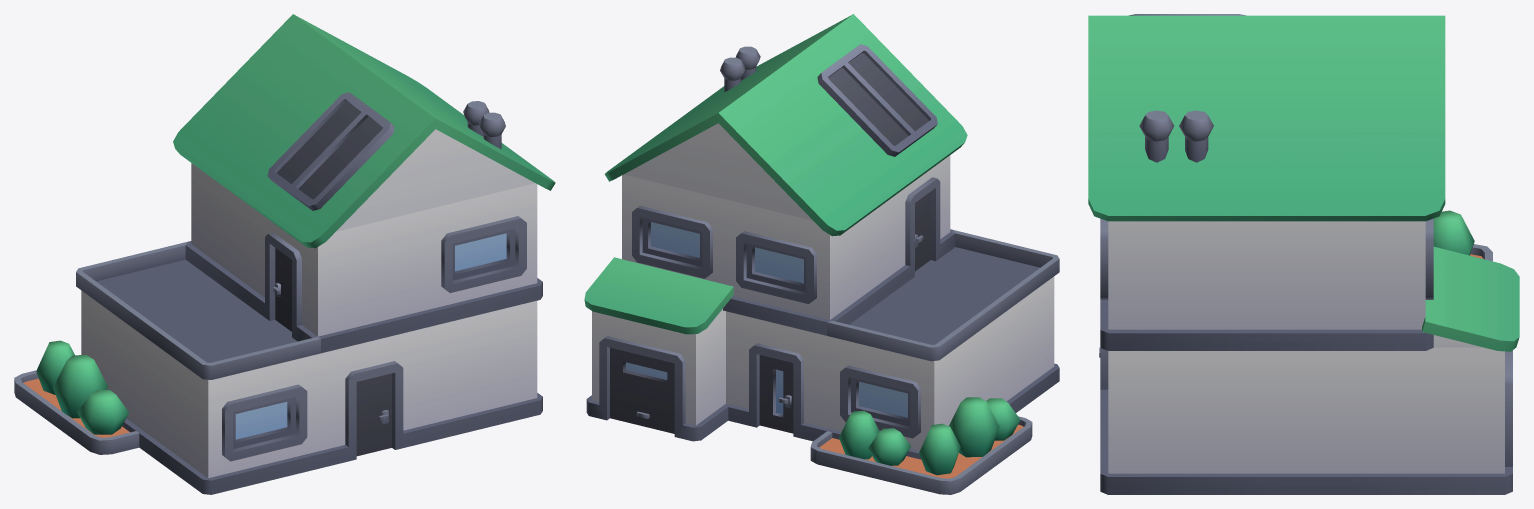
The model's file is building-type-u.draco.glb.
3 views of the same model, side by side, from view 1: azimuth 30°, elevation 25°; view 2: azimuth 150°, elevation 25°; view 3: azimuth 270°, elevation 25° (orthographic). The views are drawn at different scales.
Parts seen in each view (by area): view 1: building-type-u; view 2: building-type-u; view 3: building-type-u.
Part boxes in pixels (x1,y1,x2,y2): building-type-u: (14,14,555,494); building-type-u: (584,14,1059,494); building-type-u: (1088,14,1519,494).
Bounding box in the file's own units: 1.43 × 1.14 × 1.09.
Materials: 1 (1 with a texture image).
